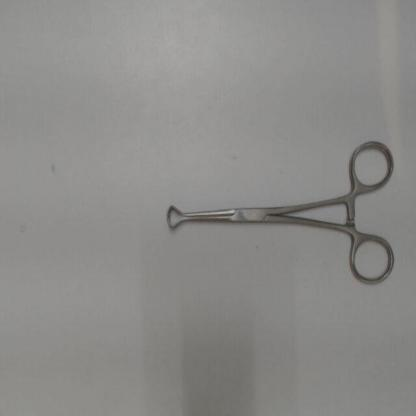Babcock Tissue Forceps: (158, 134, 400, 288)
